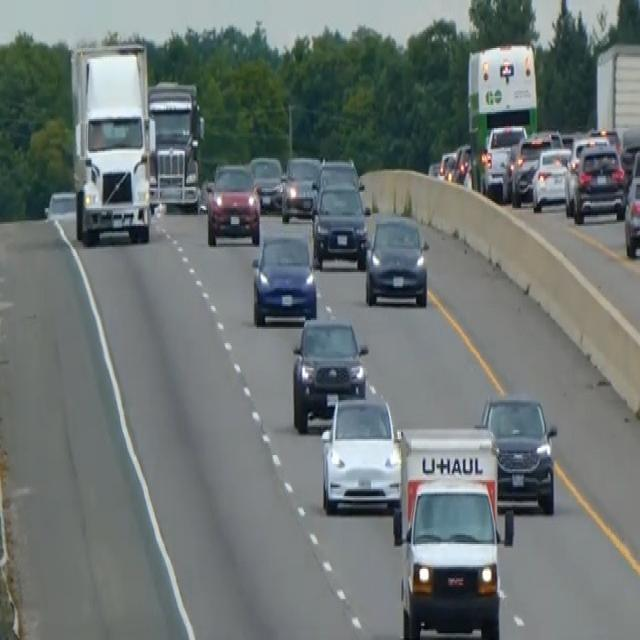bus: (464, 39, 539, 192)
car: (319, 391, 401, 514), (477, 391, 558, 514), (290, 309, 368, 432), (250, 230, 317, 326), (363, 212, 429, 308), (311, 180, 369, 270), (564, 140, 626, 224), (205, 160, 261, 245), (510, 128, 561, 206), (480, 123, 526, 199), (279, 153, 321, 220), (531, 146, 571, 212), (314, 155, 361, 199), (248, 153, 283, 211), (623, 146, 639, 258), (452, 142, 472, 185)
lorry: (68, 39, 157, 245)
truck: (391, 425, 514, 638)
